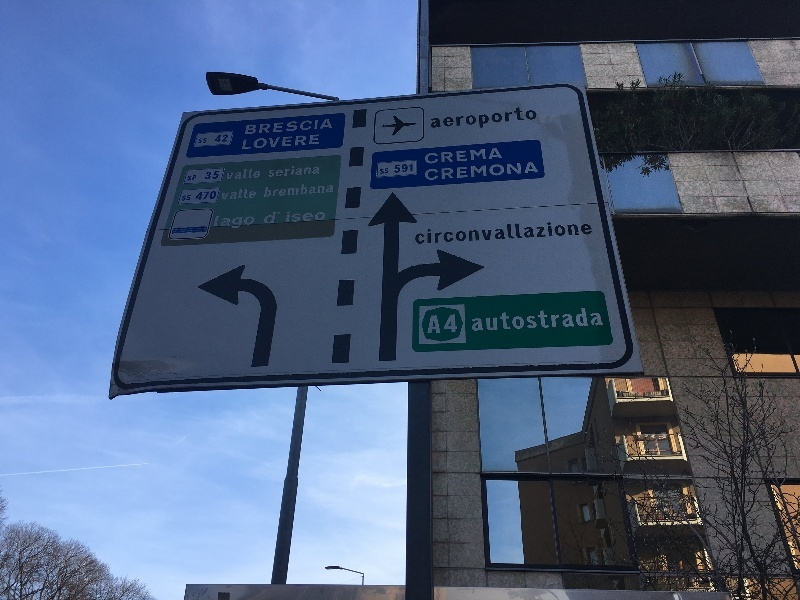text: (433, 106, 448, 137), (449, 106, 464, 137), (465, 106, 480, 137), (481, 106, 496, 137), (497, 106, 512, 137), (513, 106, 528, 137), (577, 219, 593, 245), (417, 219, 432, 245), (433, 219, 448, 245), (449, 219, 464, 245), (465, 219, 480, 245), (481, 219, 496, 245), (497, 219, 512, 245), (513, 219, 528, 245), (529, 219, 544, 245), (545, 219, 560, 245), (561, 219, 576, 245), (481, 307, 496, 332), (497, 307, 512, 332), (513, 307, 528, 332), (529, 307, 544, 332), (545, 307, 560, 332), (561, 307, 576, 332), (577, 307, 592, 332), (433, 162, 448, 181), (449, 162, 464, 181), (465, 162, 480, 181), (481, 162, 496, 181), (497, 162, 512, 181), (513, 162, 528, 181), (433, 315, 448, 334), (529, 106, 538, 137), (593, 307, 604, 332), (433, 148, 448, 165), (449, 148, 464, 165), (465, 148, 480, 165), (481, 148, 496, 165), (257, 119, 272, 134), (273, 119, 288, 134), (289, 119, 304, 134), (305, 119, 320, 134), (257, 135, 272, 150), (273, 135, 288, 150), (289, 135, 304, 150), (305, 135, 320, 150), (273, 183, 288, 198), (289, 183, 304, 198), (305, 183, 320, 198), (241, 168, 256, 181), (225, 216, 240, 229), (241, 216, 256, 229), (289, 210, 304, 223), (305, 210, 320, 223), (241, 188, 257, 200), (529, 162, 539, 181), (321, 119, 333, 134), (244, 135, 256, 150), (225, 188, 240, 200), (321, 183, 333, 198), (273, 166, 288, 178), (289, 166, 304, 178), (305, 166, 320, 178), (473, 307, 480, 332), (449, 315, 458, 334), (228, 168, 240, 181), (247, 119, 256, 134), (425, 162, 432, 181), (401, 163, 413, 174), (425, 148, 432, 165), (209, 171, 221, 180), (216, 216, 224, 229), (497, 148, 503, 165), (266, 183, 272, 198), (273, 212, 280, 224), (200, 191, 208, 201), (209, 191, 217, 201), (321, 210, 327, 223), (266, 212, 272, 224), (395, 163, 400, 174), (183, 195, 192, 201), (257, 168, 261, 181), (218, 135, 224, 143), (199, 138, 208, 143), (225, 135, 229, 143), (431, 106, 432, 137), (193, 176, 198, 181), (222, 188, 224, 200), (270, 166, 272, 178), (380, 168, 384, 174), (385, 168, 389, 174), (431, 315, 432, 334), (189, 176, 192, 181), (207, 171, 208, 180)
